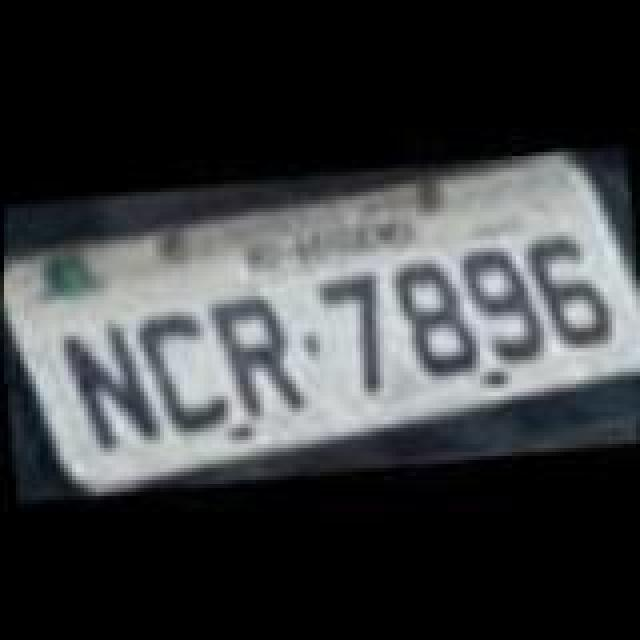6: (522, 224, 618, 352)
7: (312, 266, 400, 406)
8: (382, 252, 482, 384)
9: (446, 238, 546, 370)
C: (136, 300, 244, 440)
N: (50, 306, 170, 462)
R: (204, 278, 312, 426)
